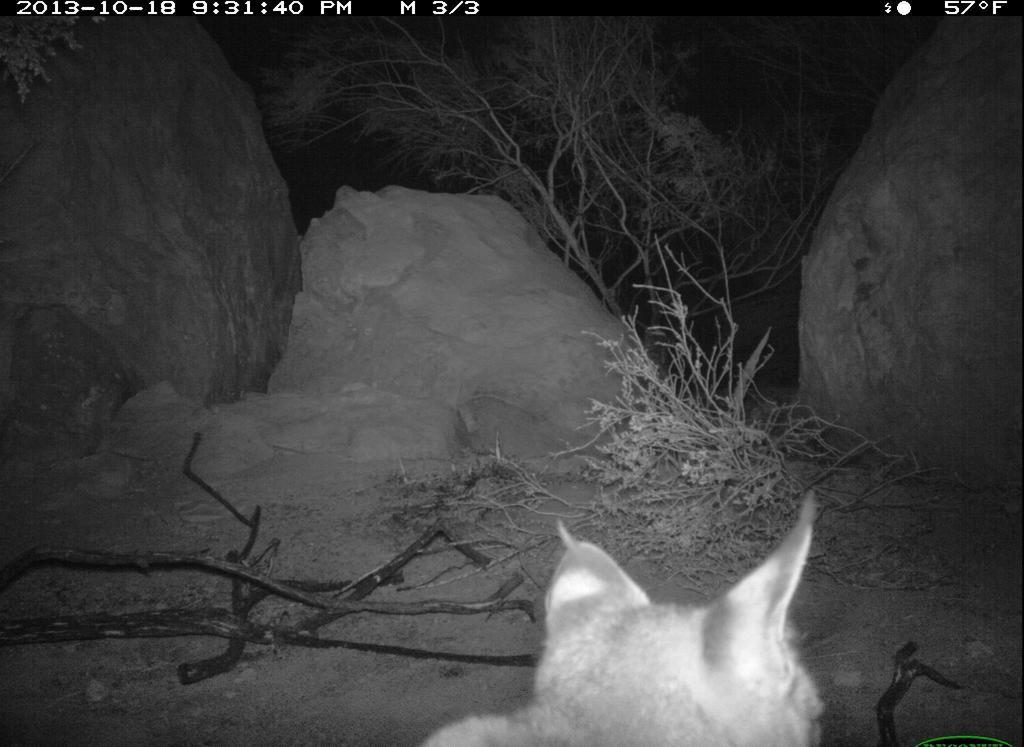bobcat: (404, 481, 834, 747)
